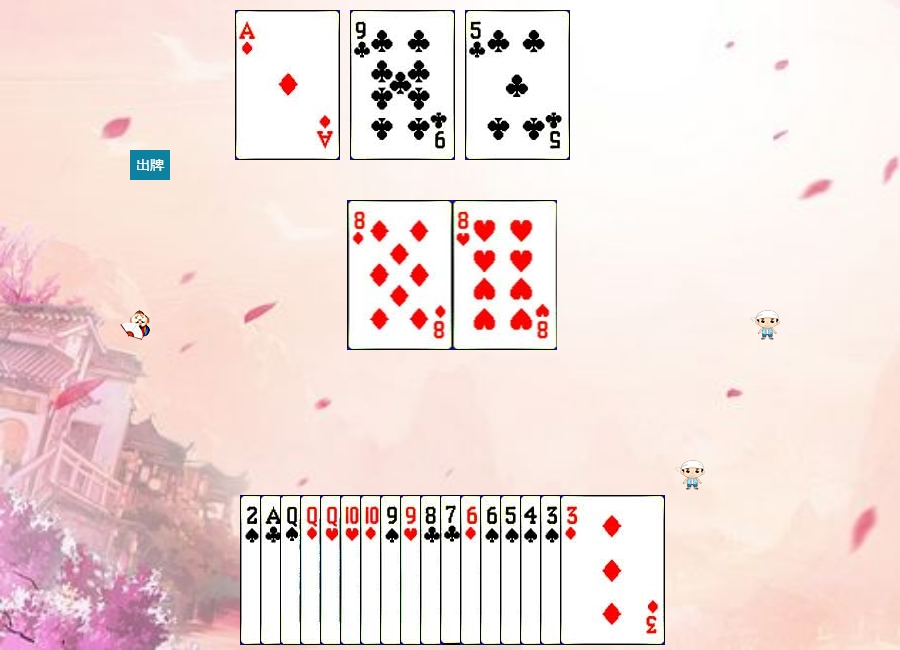10~1: (360, 495, 465, 645)
10~3: (340, 495, 445, 645)
12~1: (300, 495, 405, 645)
12~3: (320, 495, 425, 645)
12~4: (280, 495, 385, 645)
14~1: (235, 10, 340, 160)
14~2: (260, 495, 365, 645)
15~4: (240, 495, 345, 645)
3~1: (560, 495, 665, 645)
3~4: (540, 495, 645, 645)
4~4: (520, 495, 625, 645)
5~2: (465, 10, 570, 160)
5~4: (500, 495, 605, 645)
6~1: (460, 495, 565, 645)
6~4: (480, 495, 585, 645)
7~2: (440, 495, 545, 645)
8~1: (348, 200, 453, 350)
8~2: (420, 495, 525, 645)
8~3: (453, 200, 558, 350)
9~2: (350, 10, 455, 160)
9~3: (400, 495, 505, 645)
9~4: (380, 495, 485, 645)
